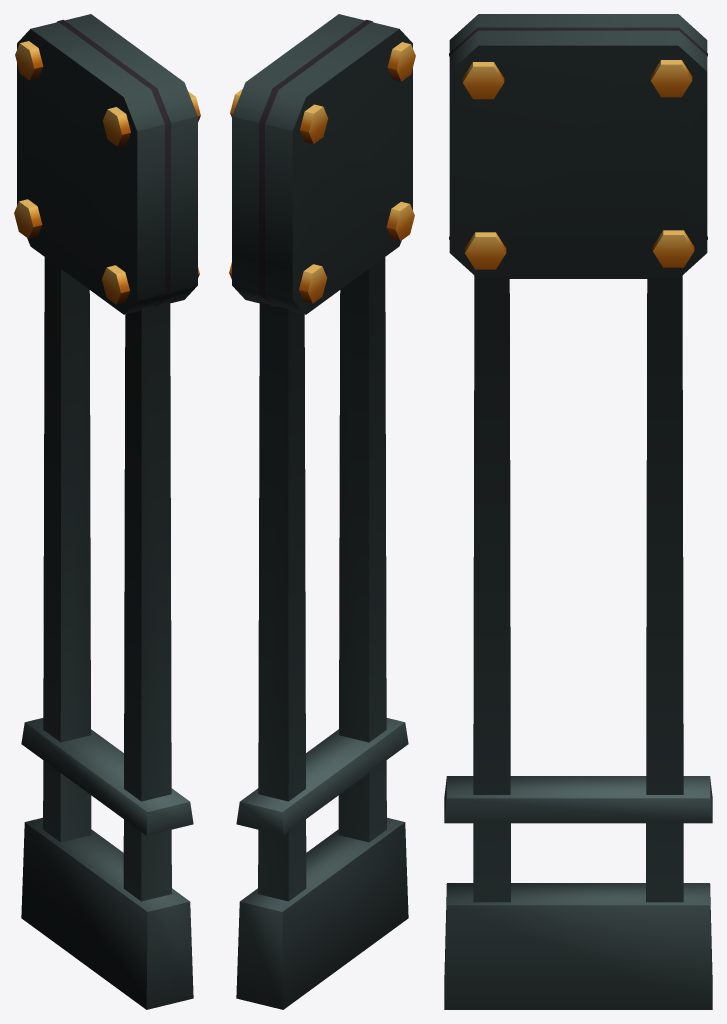
The model's file is Pipe_Support_3A.fbx.
3 renders of one model, left to right at view 1: azimuth 30°, elevation 25°; view 2: azimuth 150°, elevation 25°; view 3: azimuth 270°, elevation 25°, orthographic. The views are drawn at different scales.
Visible parts, largest first — view 1: Scaleable_Addon_3A, Pipe_Support_3A; view 2: Scaleable_Addon_3A, Pipe_Support_3A; view 3: Scaleable_Addon_3A, Pipe_Support_3A.
Boxes of the visible parts, x1,y1,x2,y2 form: Scaleable_Addon_3A: [21, 257, 193, 1009]; Pipe_Support_3A: [14, 14, 200, 314]; Scaleable_Addon_3A: [236, 257, 408, 1009]; Pipe_Support_3A: [229, 14, 415, 314]; Scaleable_Addon_3A: [444, 275, 712, 1009]; Pipe_Support_3A: [449, 14, 707, 278].
Bounding box in the file's own units: 0.5197 × 5.69 × 1.43.
